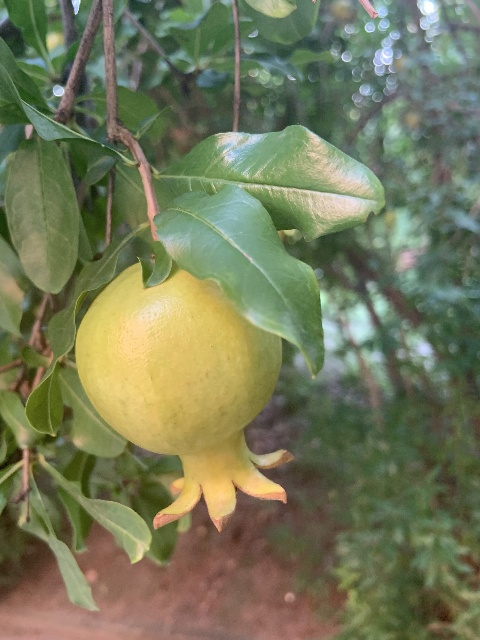mid-growth: (75, 262, 295, 531)
